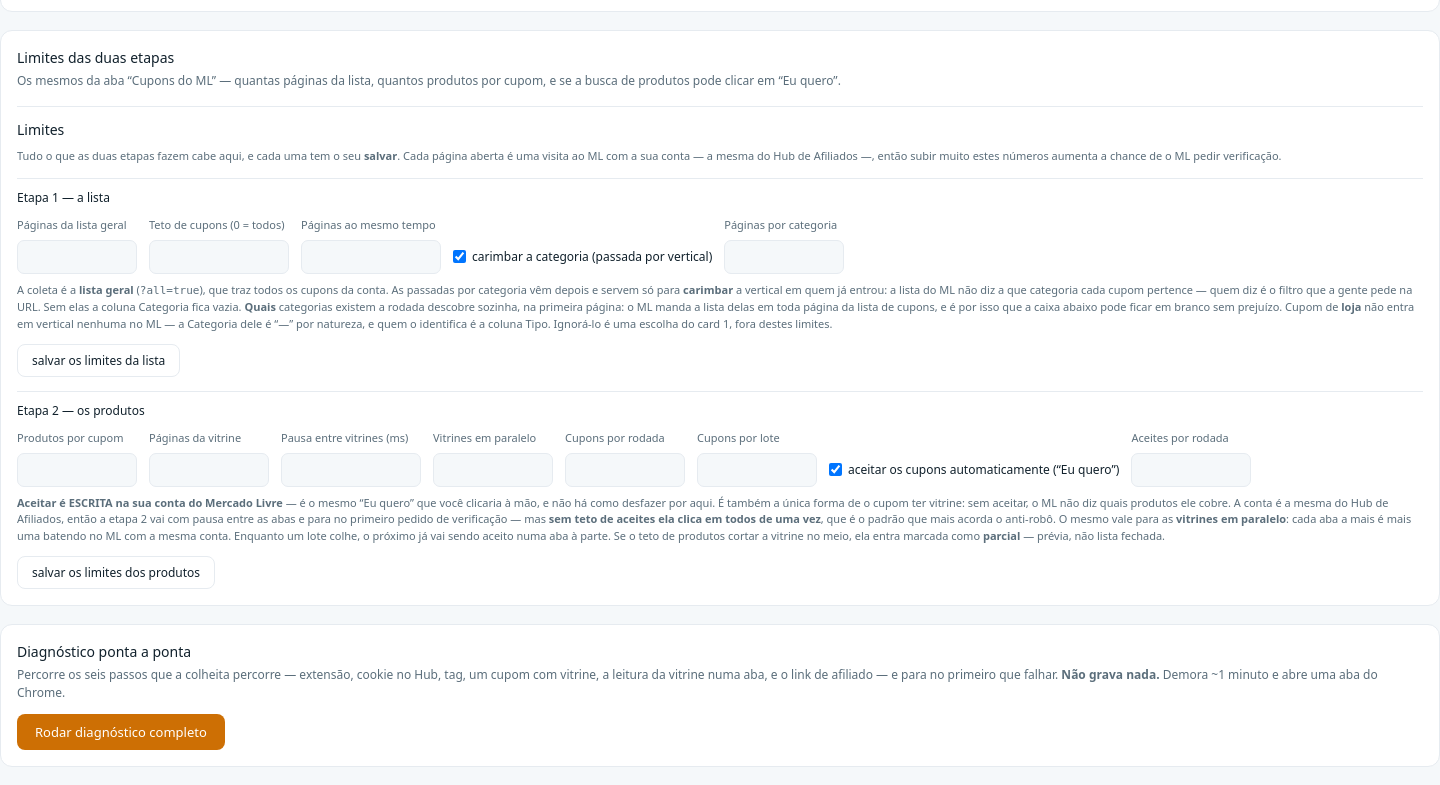
Test: o diagnóstico ponta a ponta › sem cupom com vitrine, o veredito é parcial — não é falha de configuração
(page scrolled)
Click the button "Rodar diagnóstico completo" at (121, 732), box [17,714,225,750]
(page scrolled)
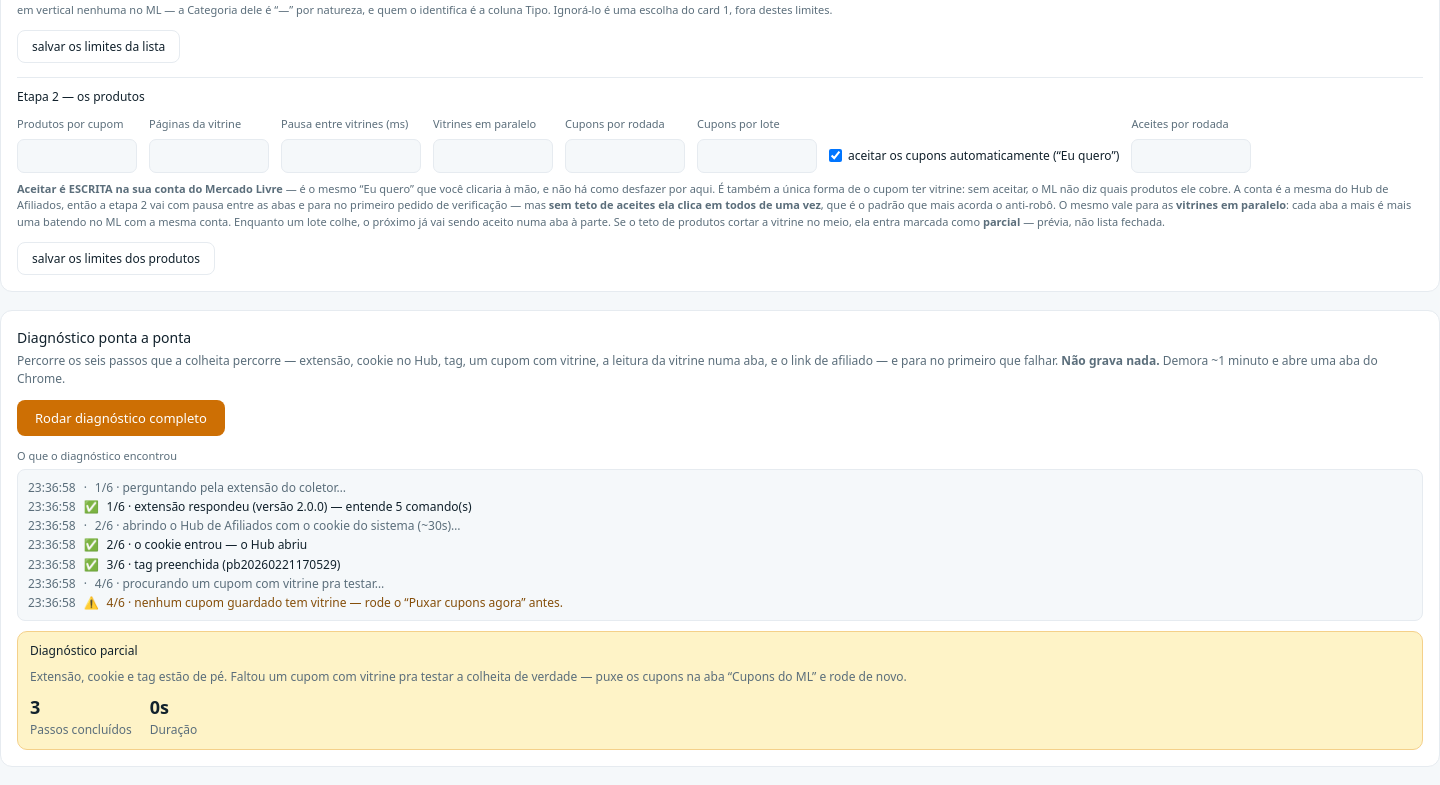
Result: the text "Diagnóstico parcial" is shown at [30,642,138,659]
Result: the text "Extensão, cookie e tag estão de pé" is shown at [30,668,907,685]
